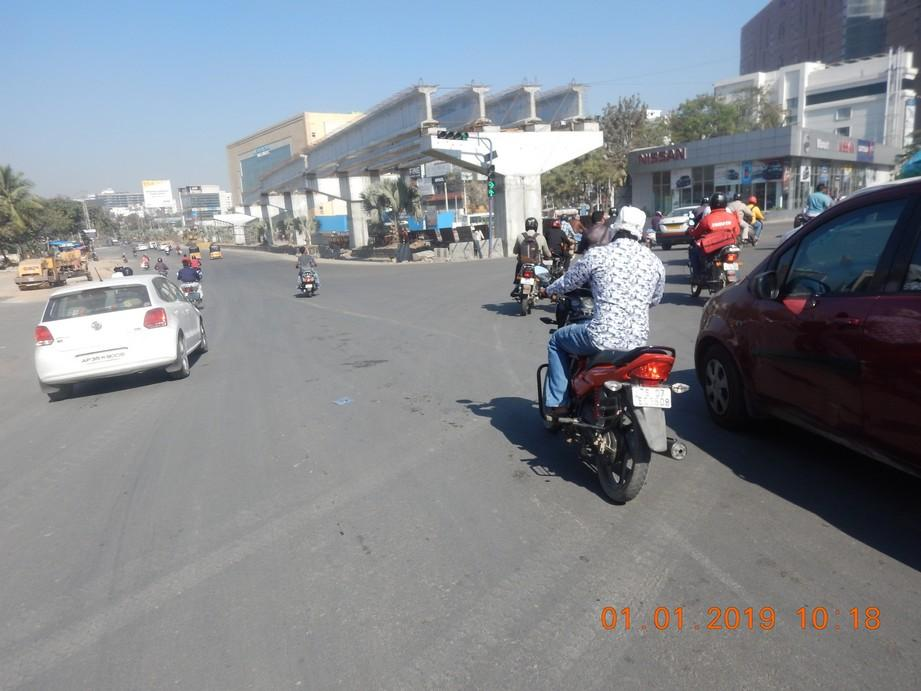plate: (632, 384, 673, 409)
